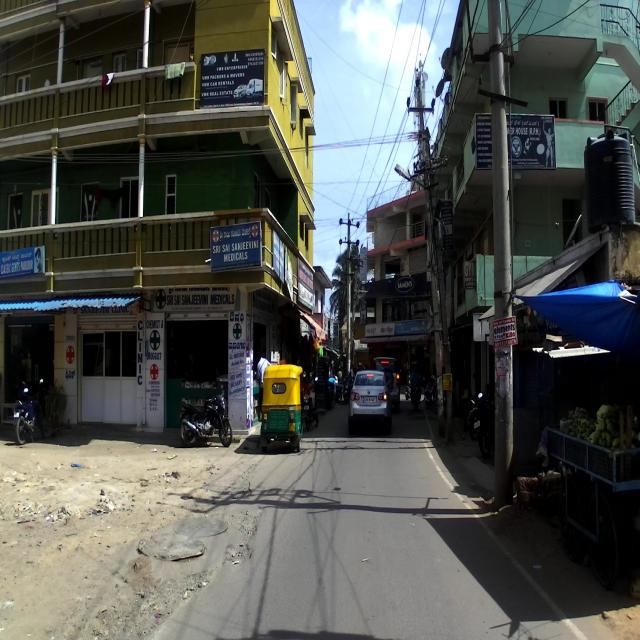motorcycle_bajaj: (179, 391, 232, 449), (12, 375, 47, 446)
